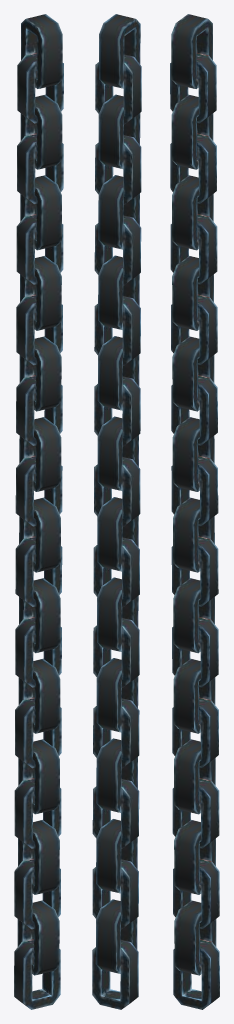
File: chain.glb
The picture shows the model from 3 angles, left to right: view 1: azimuth 30°, elevation 25°; view 2: azimuth 150°, elevation 25°; view 3: azimuth 330°, elevation 25°; orthographic projection.
Parts seen in each view (by area): view 1: Chain.001; view 2: Chain.001; view 3: Chain.001.
Part boxes in pixels (x1,y1,x2,y2): Chain.001: [14, 14, 63, 1009]; Chain.001: [92, 14, 141, 1009]; Chain.001: [170, 14, 219, 1009].
Size of the model in its own units: 0.1153 by 2.94 by 0.1331.
1 material, 1 textured.
